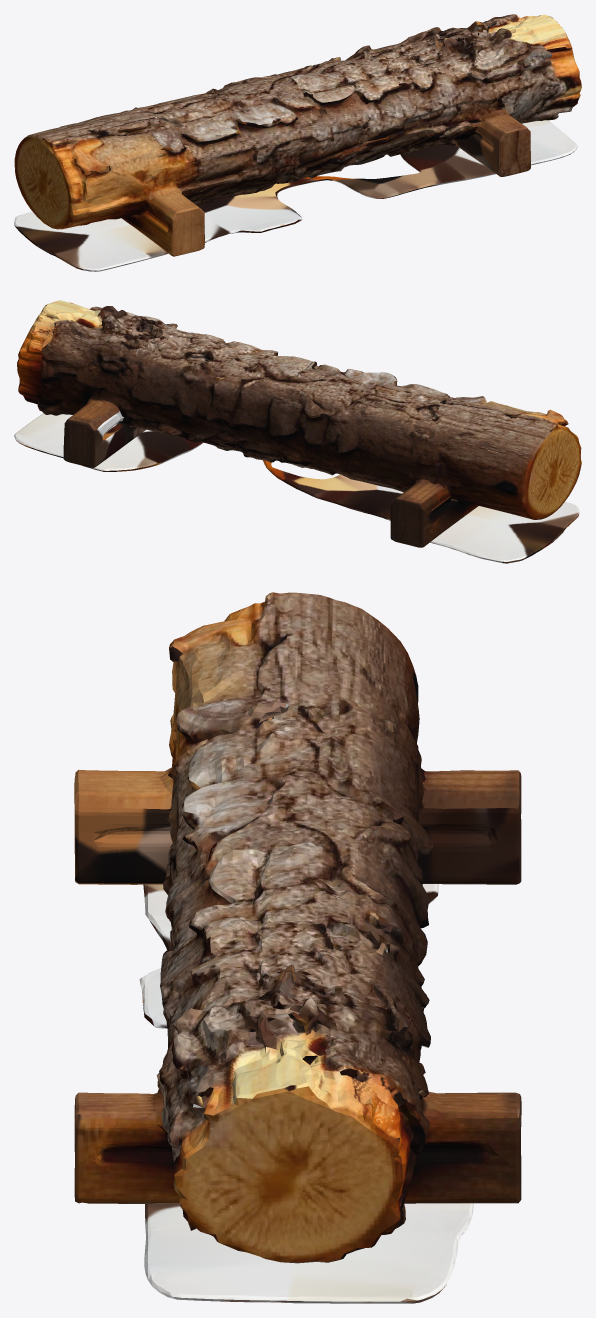
Rendered from traveler_env_coast_cakon_canal_maple_log_00001_.glb.
3 renders of one model, top to bottom at view 1: azimuth 30°, elevation 25°; view 2: azimuth 150°, elevation 25°; view 3: azimuth 270°, elevation 25°, orthographic. The views are drawn at different scales.
Parts seen in each view (by area): view 1: temp_mesh.ply; view 2: temp_mesh.ply; view 3: temp_mesh.ply.
Boxes of the visible parts, bbox=[...] form: temp_mesh.ply: bbox=[14, 14, 581, 271]; temp_mesh.ply: bbox=[14, 300, 581, 563]; temp_mesh.ply: bbox=[74, 592, 521, 1303].
Size of the model in its own units: 1.97 by 0.439 by 0.7457.
1 material, 1 textured.
